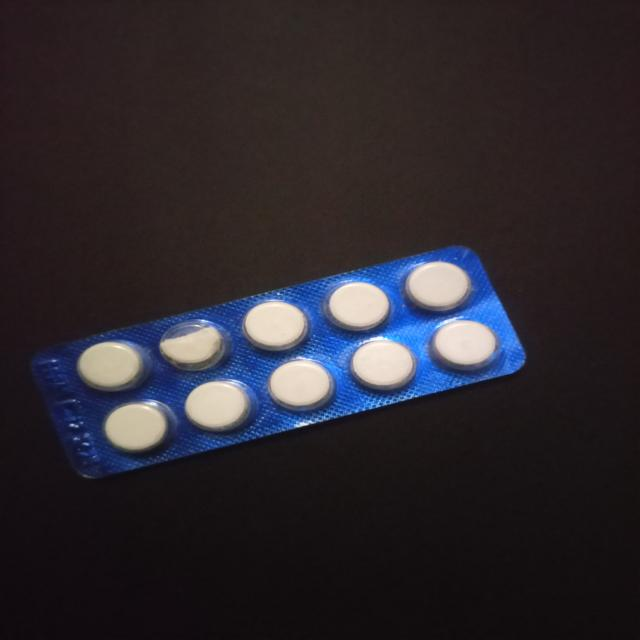defect: (156, 320, 232, 374)
